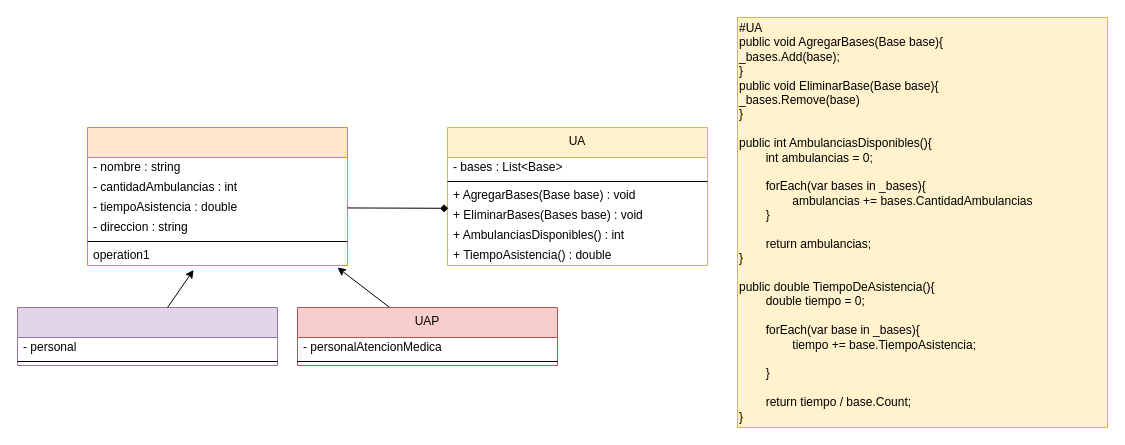
The diagram is 1125 pixels wide and 445 high, and some of its shapes have lost their labels. The box of each missing label's shape, as (x1, y1, x2, y2) in pixels:
BaseSanitaria: (86, 126, 348, 266)
Hospitales: (16, 306, 278, 366)
